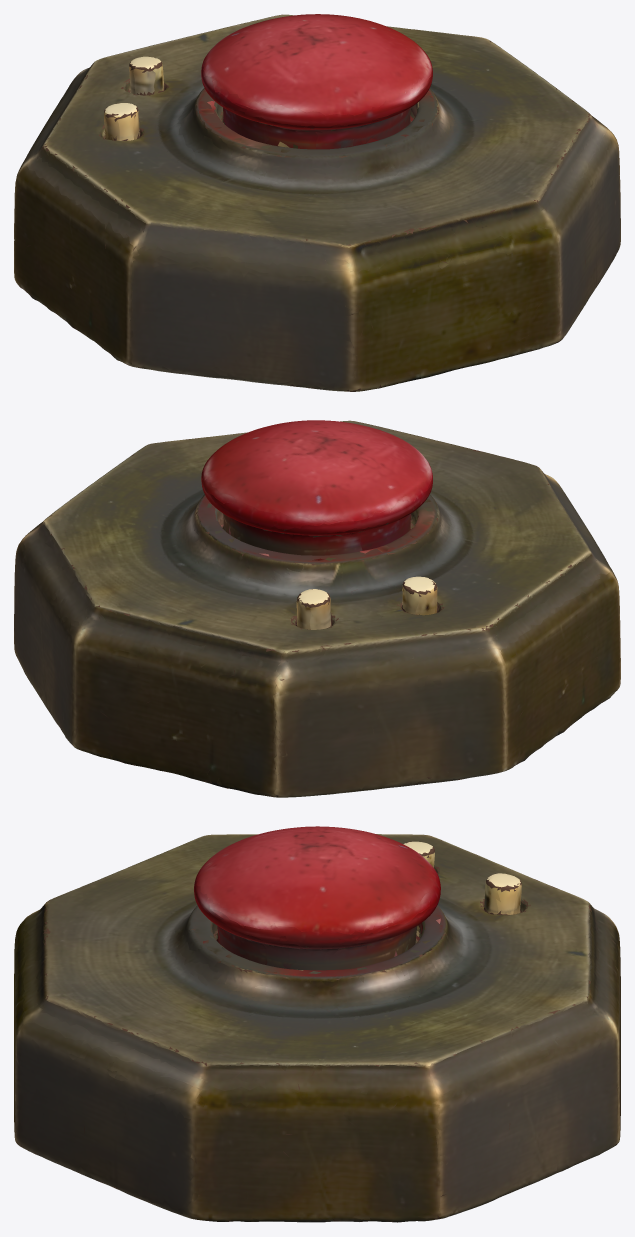
The model's file is 500db0b5-2c30-4d43-8351-5df1cda6297b.glb.
3 renders of one model, top to bottom at view 1: azimuth 30°, elevation 25°; view 2: azimuth 150°, elevation 25°; view 3: azimuth 270°, elevation 25°, orthographic. The views are drawn at different scales.
Visible parts, largest first — view 1: geometry_0; view 2: geometry_0; view 3: geometry_0.
Boxes of the visible parts, box(x1,y1,x2,y2) form: geometry_0: box(14, 14, 620, 391); geometry_0: box(14, 420, 620, 797); geometry_0: box(14, 826, 620, 1222).
Bounding box in the file's own units: 0.095 × 0.0432 × 0.095.
Materials: 1 (1 with a texture image).
